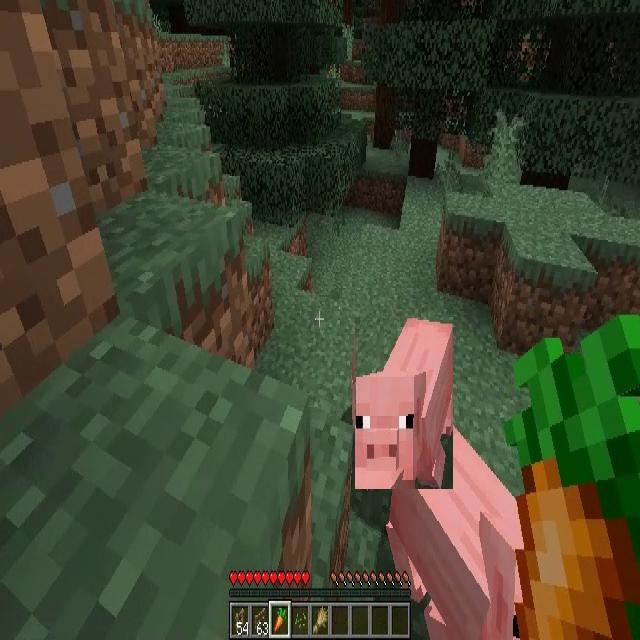pig: (387, 430, 547, 640), (355, 317, 453, 489)
